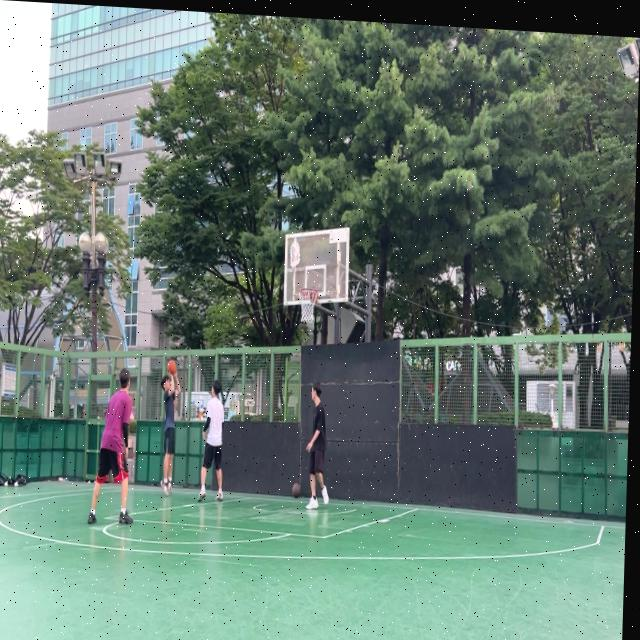basketball: (166, 359, 176, 376), (292, 482, 301, 499)
hoop: (298, 288, 318, 325)
